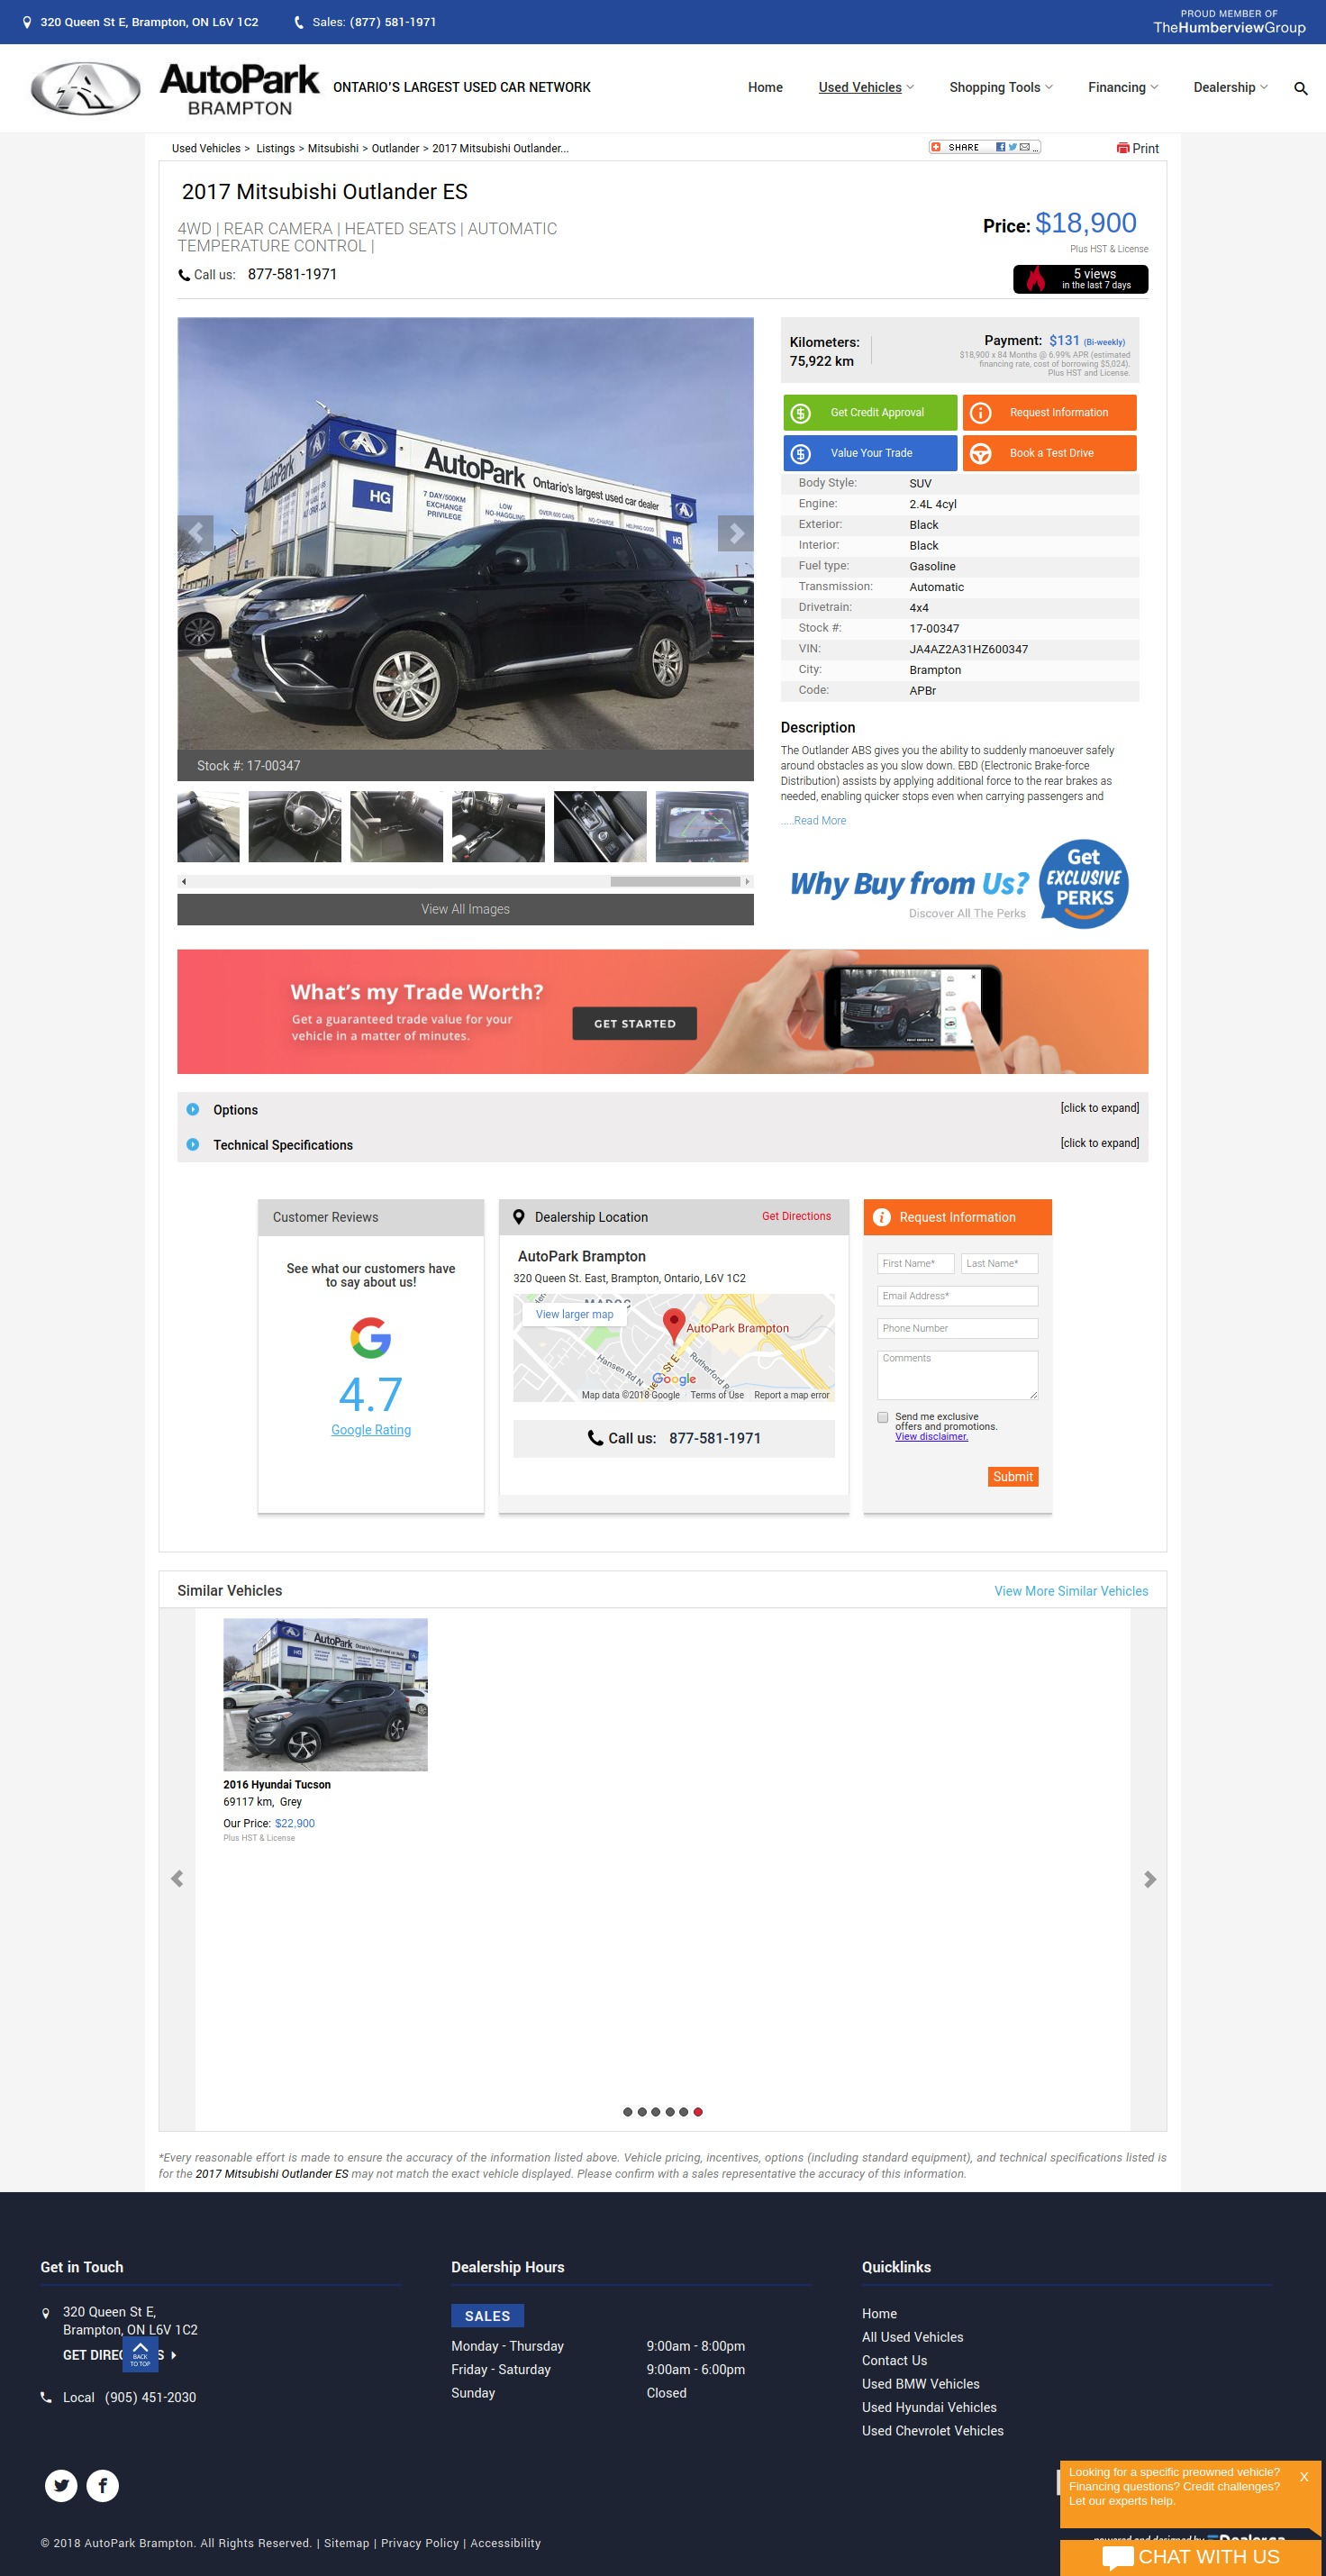car: (744, 876, 751, 886)
